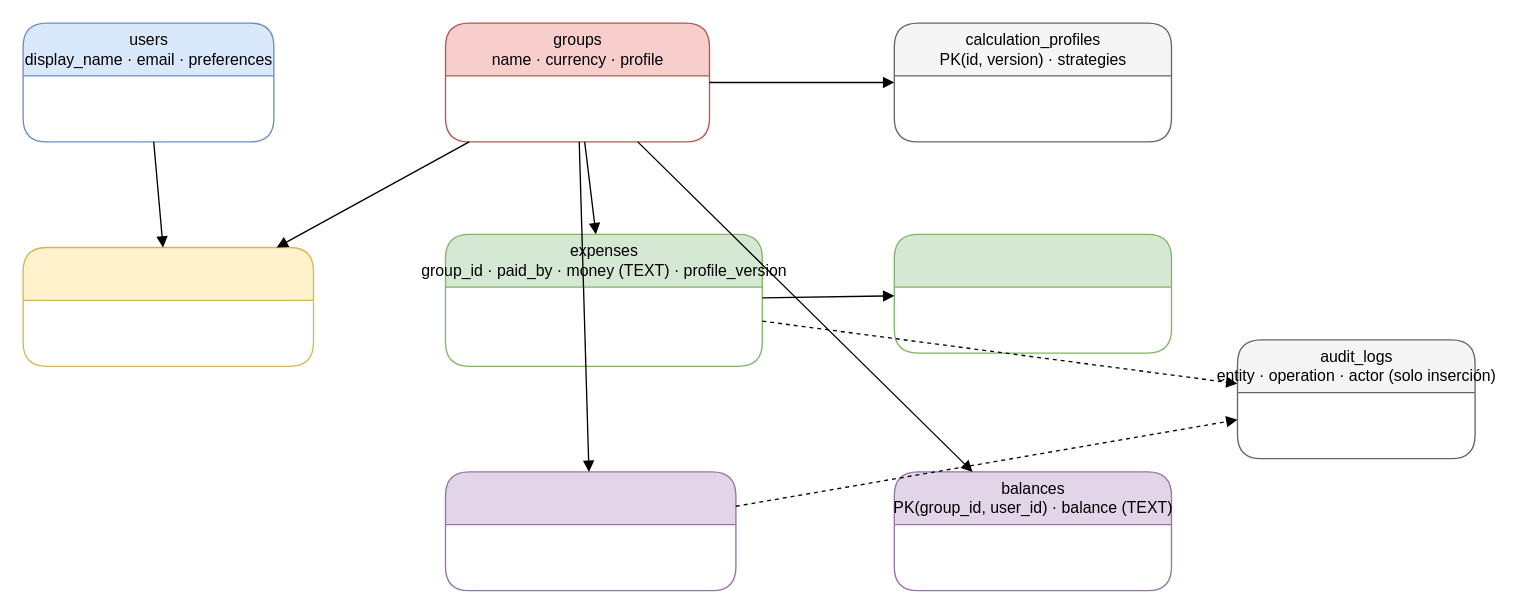
This 1518x614 diagram has some shape labels left out. The shapes that lost their labels are listed below. From the top down, each one's centre as x and y in pixels, then its label:
At (x=168, y=306): "group_members UNIQUE(group_id, user_id) · role · status".
At (x=1032, y=293): "expense_splits expense_id · user_id · amount (TEXT)".
At (x=590, y=531): "settlements group_id · from_user · to_user · status".
